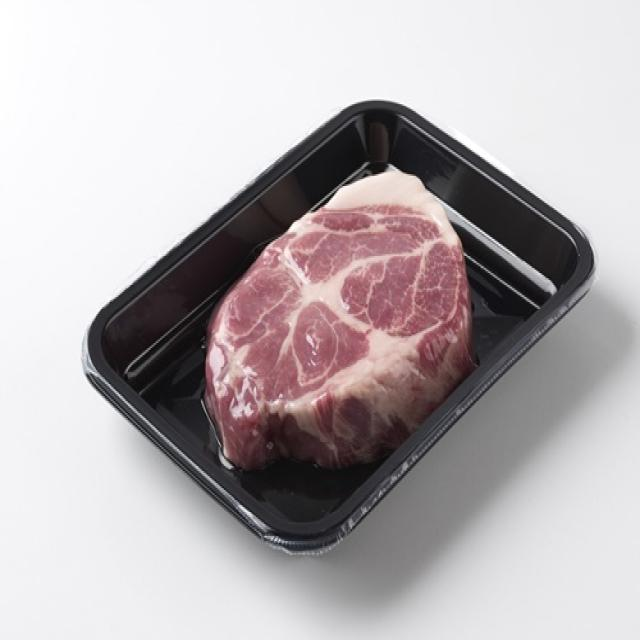pork: (165, 118, 531, 496)
